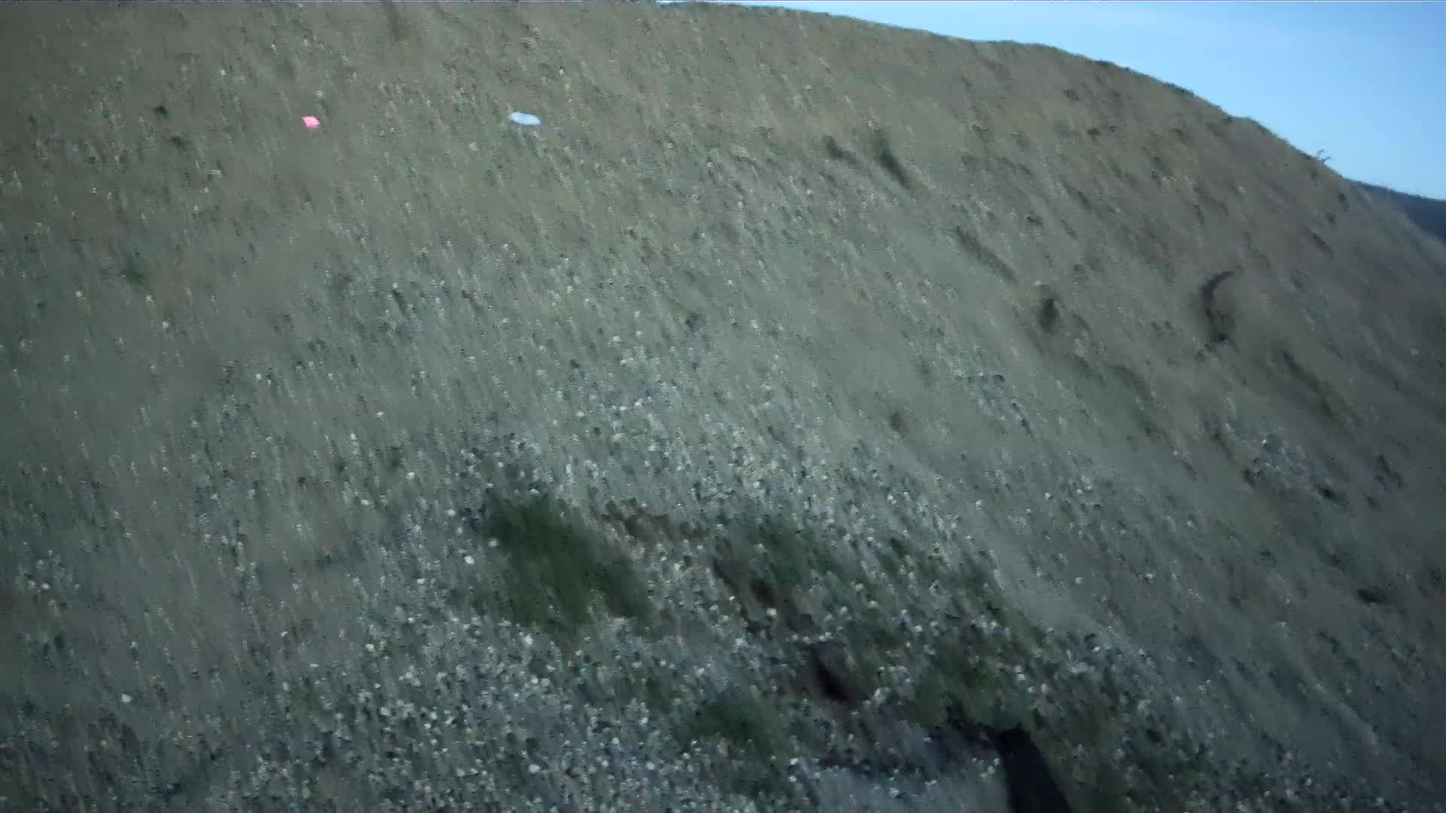Target: (508, 111, 540, 125)
